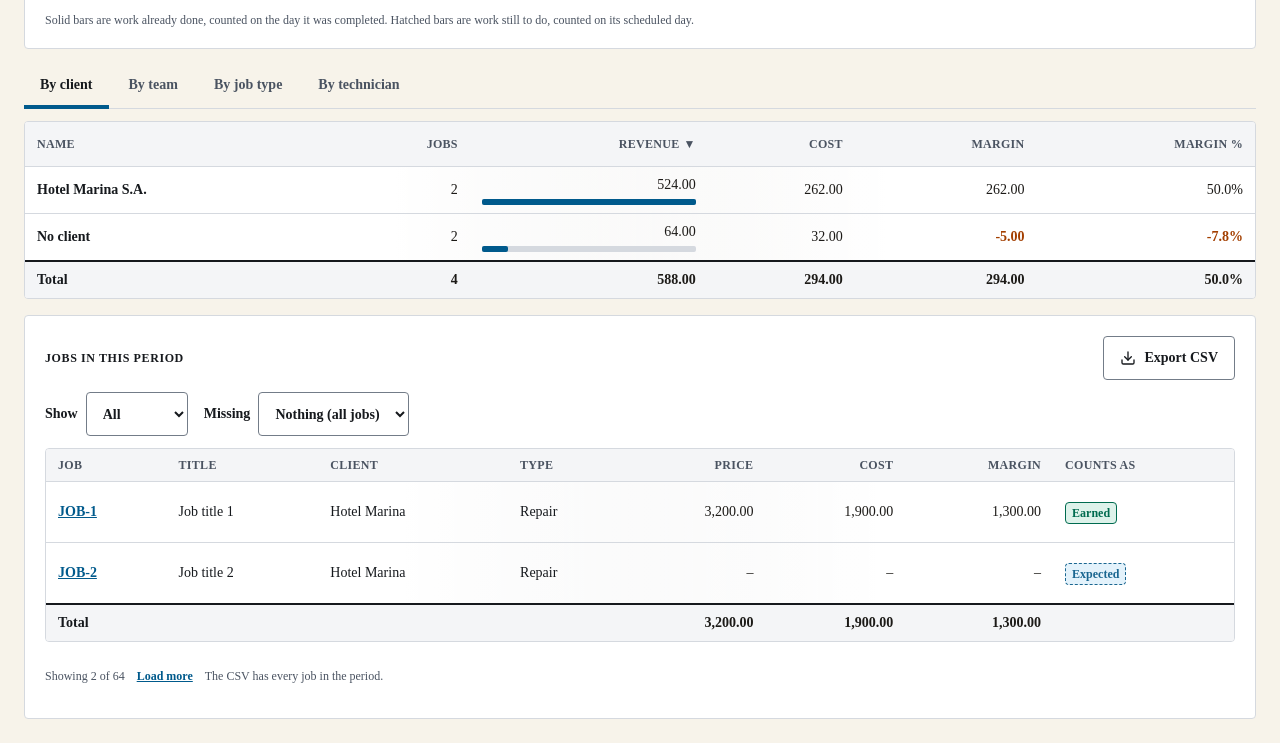
export CSV › shows a retryable message for other failures
(page scrolled)
Expected: the link "JOB-1" is shown, [58,504,97,519]
Click the button "Export CSV" at [1169, 358], box [1104,336,1235,380]
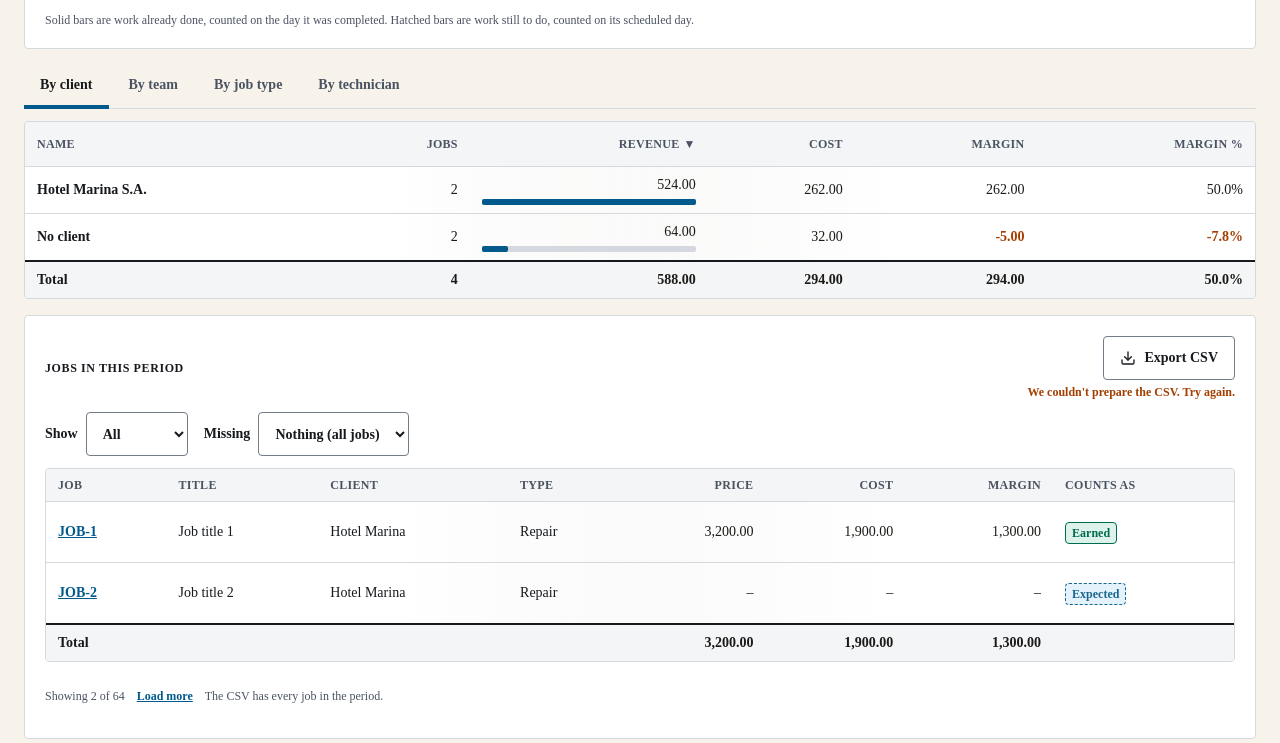
Expected: the message reads "We couldn't prepare the CSV. Try again.", [1027,385,1235,399]
